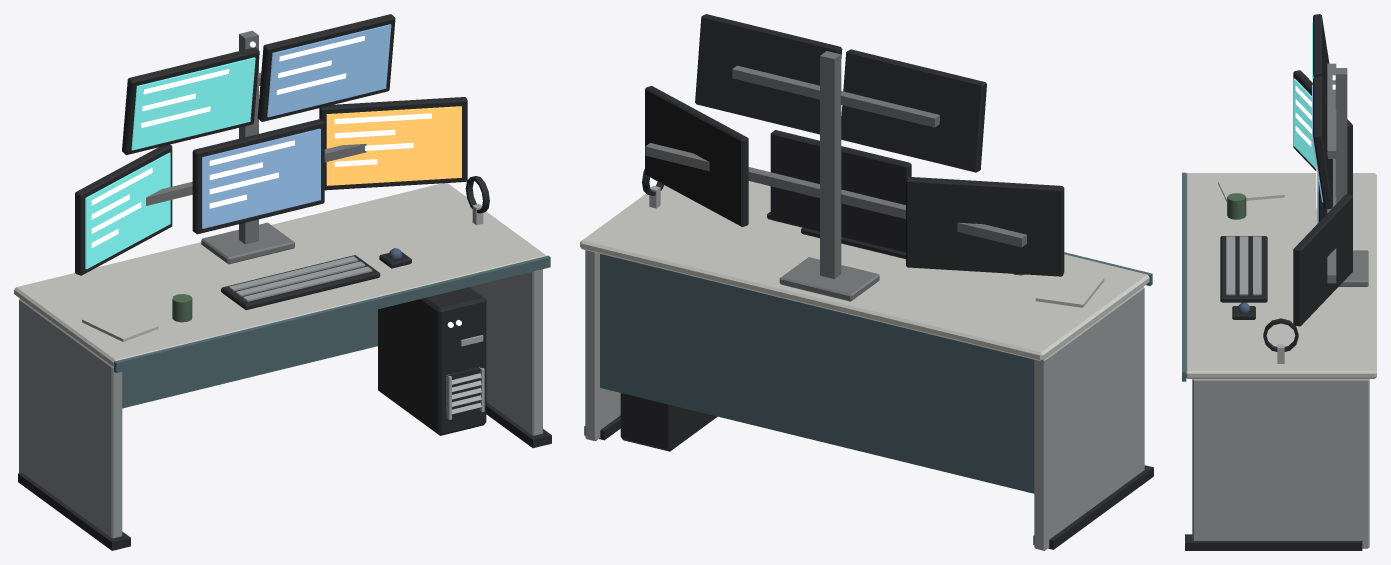
File: astro_research_terminal.fbx
3 views of the same model, side by side, from view 1: azimuth 30°, elevation 25°; view 2: azimuth 150°, elevation 25°; view 3: azimuth 270°, elevation 25° (orthographic). The views are drawn at different scales.
Visible parts, largest first — view 1: ResearchTerminal_Body; view 2: ResearchTerminal_Body; view 3: ResearchTerminal_Body.
Part boxes in pixels (x1,y1,x2,y2): ResearchTerminal_Body: (14,14,551,550); ResearchTerminal_Body: (580,14,1153,550); ResearchTerminal_Body: (1182,14,1376,550).
Bounding box in the file's own units: 324 × 283 × 132.
